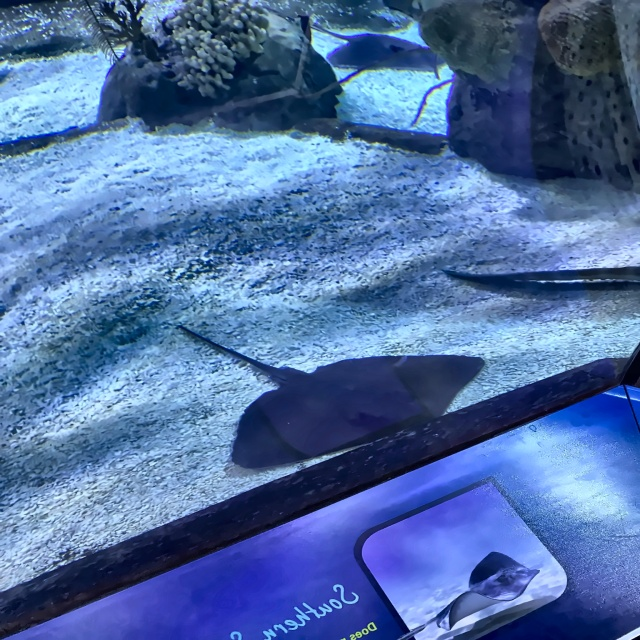stingray: (230, 356, 482, 470), (327, 33, 444, 71)
